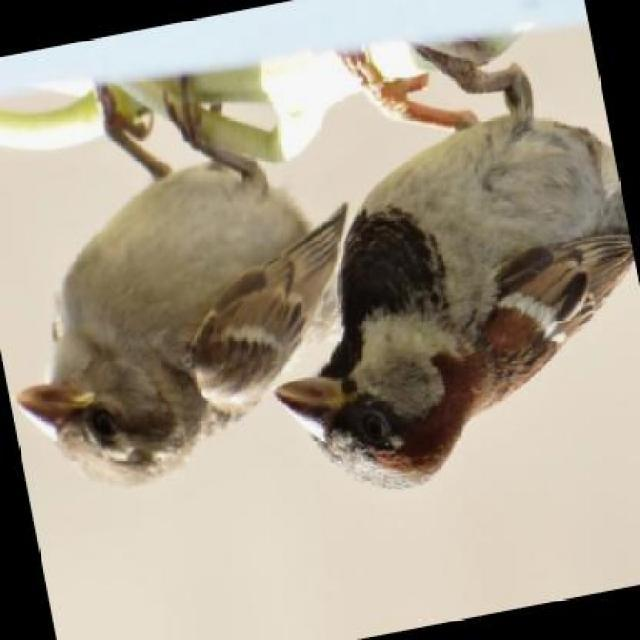Bird: (277, 43, 628, 506), (11, 92, 280, 477)
